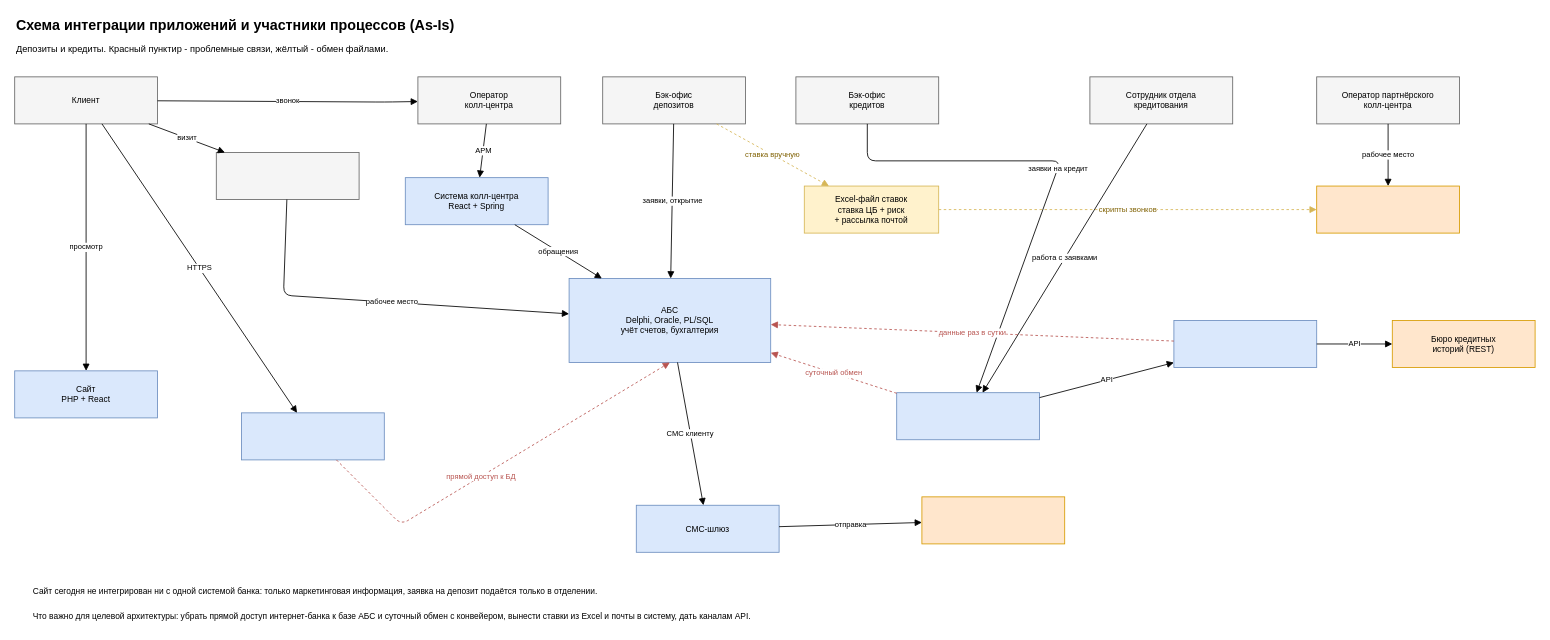
This 1550x640 diagram has some shape labels left out. The shapes that lost their labels are listed below. From the top down, each one's box as (x1, y1, x2, y2) in pixels, then its label:
(215, 152, 359, 200): Менеджер отделения
(1316, 185, 1460, 233): Система партнёрского колл-центра
(1173, 320, 1317, 368): Система скоринга Python, Flask
(241, 412, 384, 460): Интернет-банк ASP.NET MVC, MS SQL
(896, 392, 1040, 440): Кредитный конвейер Camunda, Oracle
(921, 496, 1065, 544): Телеком-оператор
